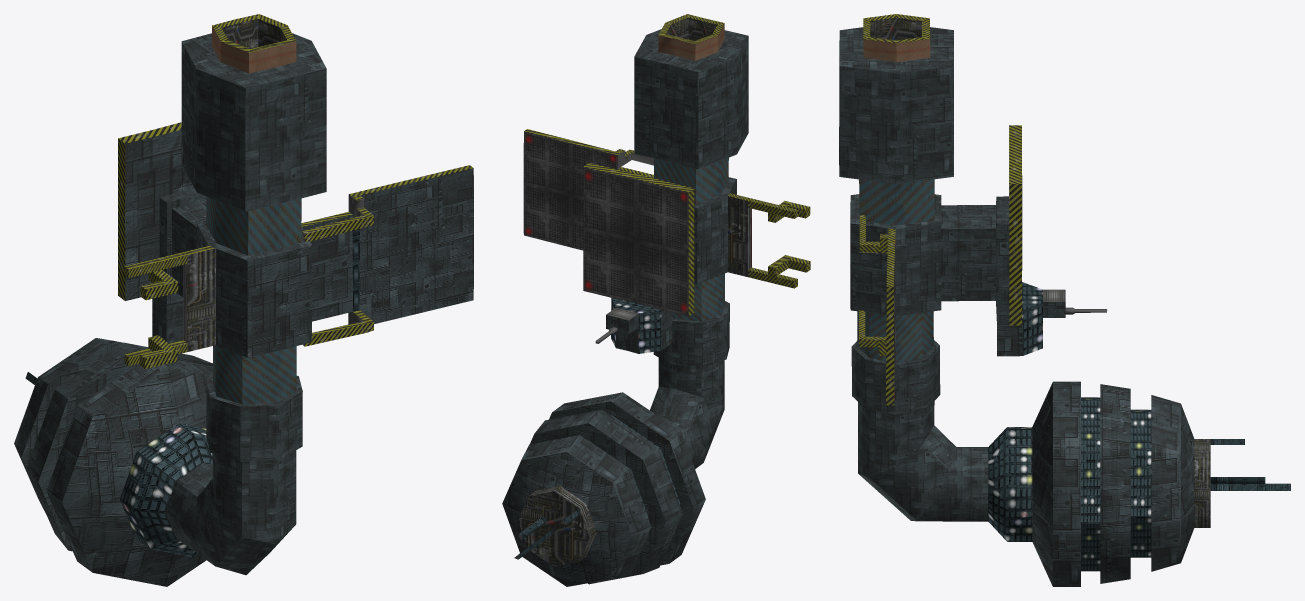
File: station.fbx
3 views of the same model, side by side, from view 1: azimuth 30°, elevation 25°; view 2: azimuth 150°, elevation 25°; view 3: azimuth 270°, elevation 25° (orthographic). The views are drawn at different scales.
Parts seen in each view (by area): view 1: U3DMesh; view 2: U3DMesh; view 3: U3DMesh.
Boxes of the visible parts, x1,y1,x2,y2 form: U3DMesh: (14, 14, 473, 586); U3DMesh: (502, 14, 810, 586); U3DMesh: (839, 14, 1290, 586).
Bounding box in the file's own units: 129 × 221 × 163.
